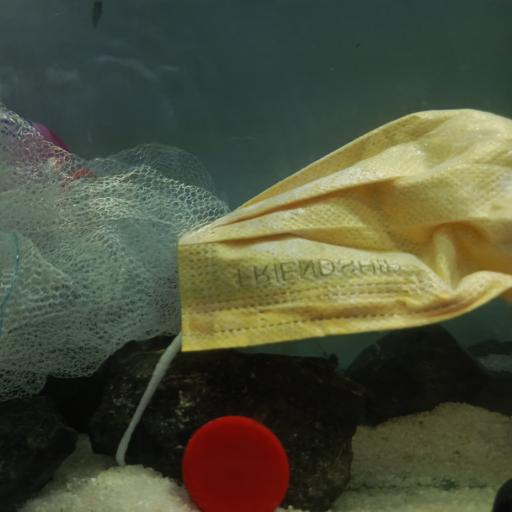bottle_cap: (180, 412, 291, 512)
mask: (119, 102, 512, 446)
net: (2, 110, 233, 393)
plastic_bottle: (2, 114, 98, 204)
